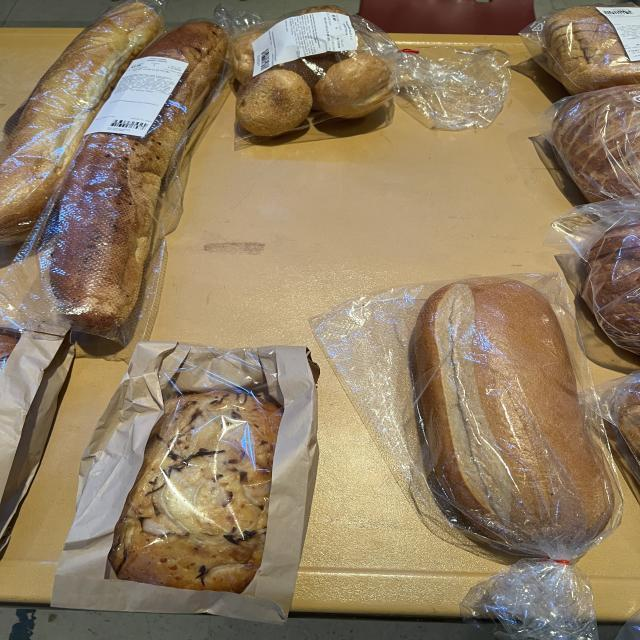Bread: (312, 272, 622, 640), (52, 342, 317, 622), (3, 20, 228, 344), (218, 5, 510, 148), (0, 0, 165, 245), (0, 330, 73, 536), (543, 199, 640, 354), (537, 85, 640, 202), (520, 5, 640, 95), (597, 371, 640, 460)
